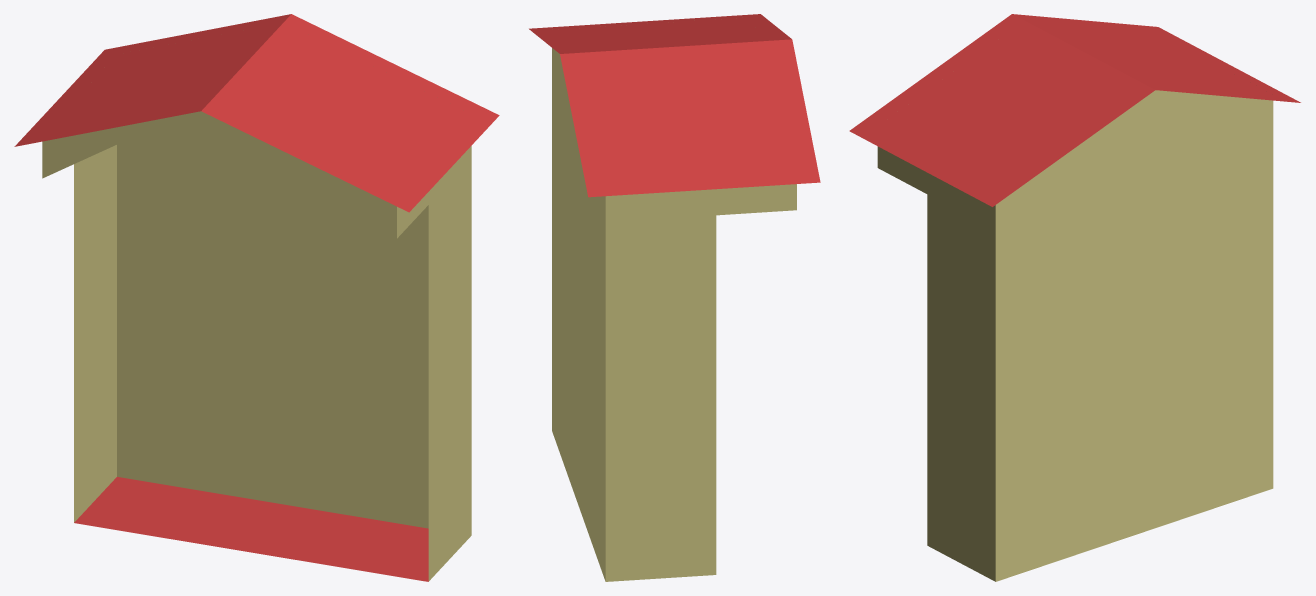
3 renders of one model, left to right at view 1: azimuth 30°, elevation 25°; view 2: azimuth 150°, elevation 25°; view 3: azimuth 270°, elevation 25°, orthographic. The views are drawn at different scales.
Bounding box in the file's own units: 10.54 × 11.19 × 12.24.
